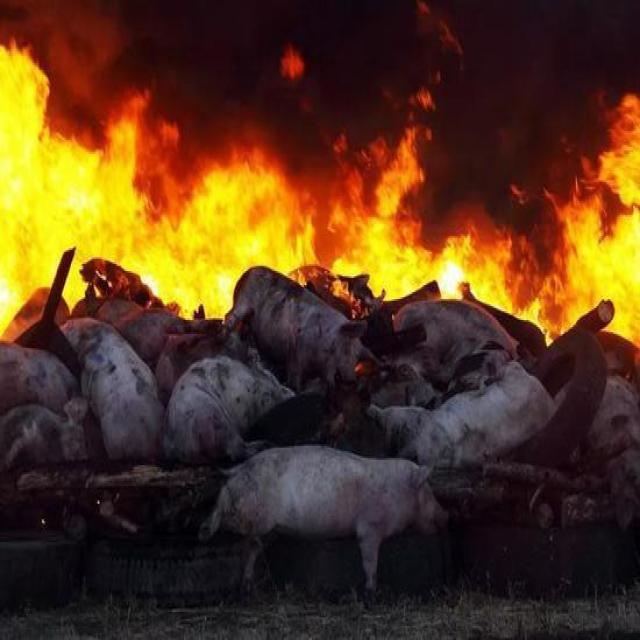fire: (0, 28, 635, 356)
